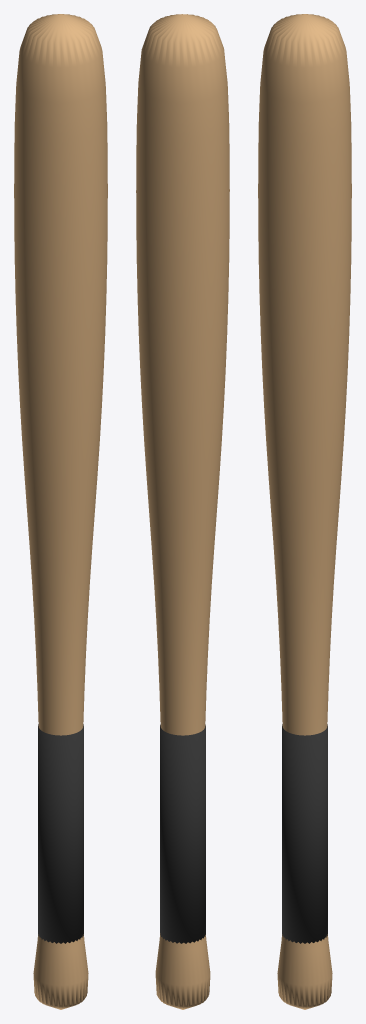
Rendered from Batte.fbx.
3 renders of one model, left to right at view 1: azimuth 90°, elevation 25°; view 2: azimuth 210°, elevation 25°; view 3: azimuth 270°, elevation 25°, orthographic.
Visible parts, largest first — view 1: Batte_Body, Batte_Tape; view 2: Batte_Body, Batte_Tape; view 3: Batte_Body, Batte_Tape.
Boxes of the visible parts, x1,y1,x2,y2 form: Batte_Body: (14, 14, 107, 1009); Batte_Tape: (38, 724, 83, 943); Batte_Body: (136, 14, 229, 1009); Batte_Tape: (160, 724, 205, 943); Batte_Body: (258, 14, 351, 1009); Batte_Tape: (282, 724, 327, 943).
Bounding box in the file's own units: 0.0715 × 0.8377 × 0.0715.
